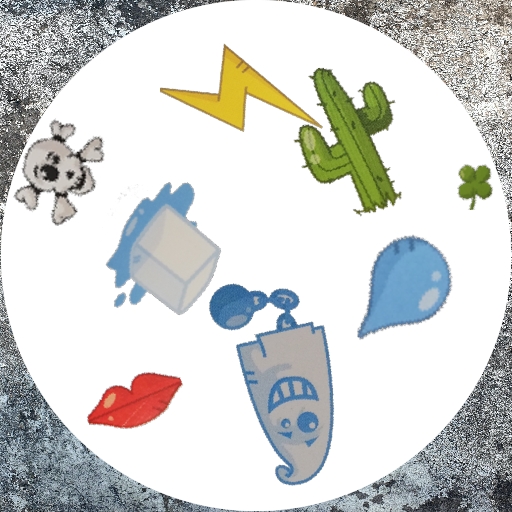cactus_icon: (266, 61, 431, 226)
cloverleaf_icon: (446, 160, 496, 210)
cube_icon: (94, 179, 251, 336)
ghost_icon: (168, 270, 391, 493)
lightning_icon: (160, 19, 324, 183)
lips_icon: (86, 356, 188, 458)
raindrop_icon: (343, 231, 459, 347)
skull_icon: (2, 111, 117, 226)
